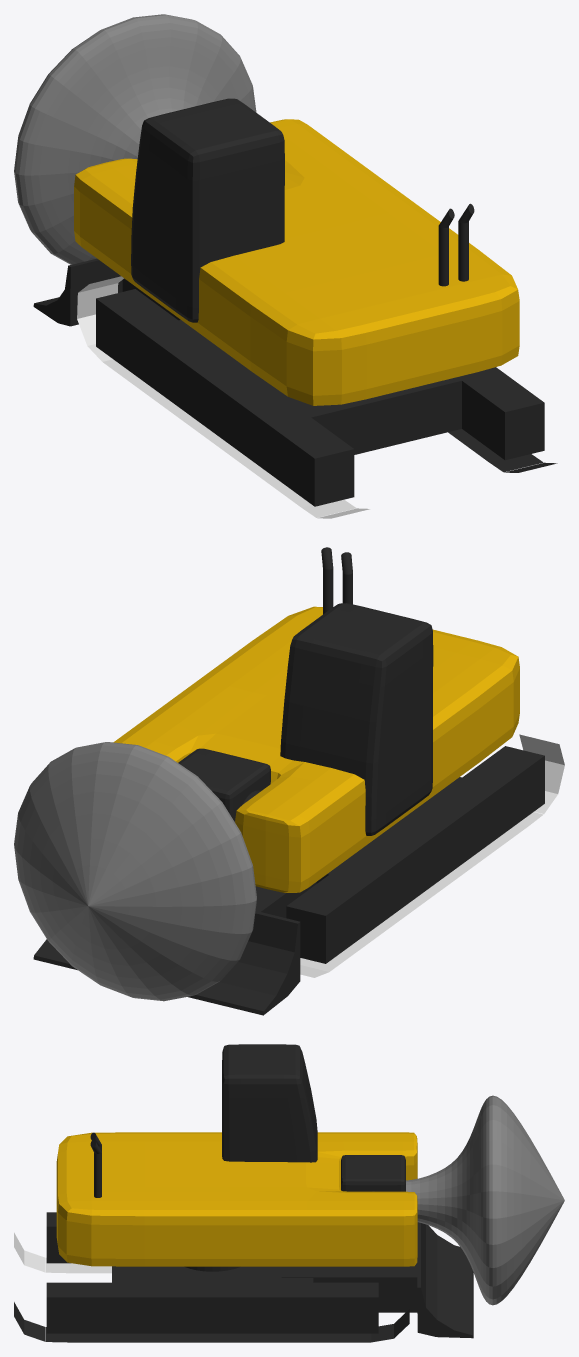
File: digger_v1.glb
3 views of the same model, one above another, from view 1: azimuth 30°, elevation 25°; view 2: azimuth 150°, elevation 25°; view 3: azimuth 270°, elevation 25° (orthographic). The views are drawn at different scales.
Parts seen in each view (by area): view 1: engine_base, chassis, drill_profile, cabin, tracks, low_shovel, tracks.001, exhaust, exhaust.001; view 2: drill_profile, engine_base, cabin, chassis, low_shovel, tracks, drill_bearing, shovel_attachment, exhaust; view 3: engine_base, chassis, drill_profile, cabin, low_shovel, tracks.001, shovel_attachment, drill_bearing, tracks, exhaust.
Boxes of the visible parts, x1,y1,x2,y2 form: engine_base: (74,119,519,405); chassis: (96,289,544,506); drill_profile: (14,14,256,264); cabin: (131,98,284,322); tracks: (77,276,369,518); low_shovel: (33,258,122,326); tracks.001: (448,429,557,472); exhaust: (458,203,474,281); exhaust.001: (438,208,454,286); drill_profile: (14,742,256,1001); engine_base: (113,606,519,892); cabin: (280,603,433,835); chassis: (286,746,544,963); low_shovel: (33,911,300,1015); tracks: (300,734,564,977); drill_bearing: (178,748,270,821); shovel_attachment: (255,882,316,917); exhaust: (321,547,333,614); engine_base: (56,1132,417,1266); chassis: (46,1212,378,1333); drill_profile: (406,1095,564,1305); cabin: (222,1044,317,1162); low_shovel: (417,1222,473,1338); tracks.001: (14,1302,409,1342); shovel_attachment: (281,1263,417,1312); drill_bearing: (341,1155,405,1191); tracks: (14,1232,111,1273); exhaust: (90,1140,101,1197).
Size of what is drawn, in the model's own units: 2.11 by 2.34 by 5.47.
